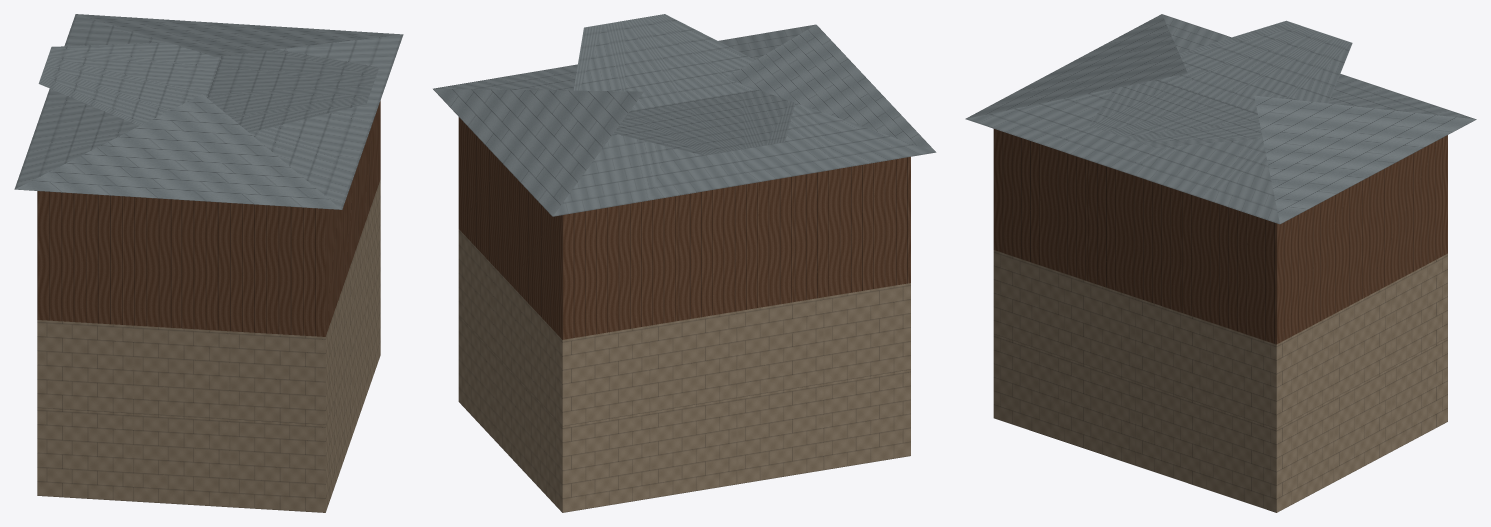
File: bld_c21_29_390.gltf
3 renders of one model, left to right at view 1: azimuth 30°, elevation 25°; view 2: azimuth 150°, elevation 25°; view 3: azimuth 270°, elevation 25°, orthographic. The views are drawn at different scales.
Parts seen in each view (by area): view 1: bld_c21_29_390; view 2: bld_c21_29_390; view 3: bld_c21_29_390.
Part boxes in pixels (x1=…): bld_c21_29_390: x1=14, y1=14, x2=403, y2=512; bld_c21_29_390: x1=433, y1=14, x2=936, y2=512; bld_c21_29_390: x1=965, y1=14, x2=1476, y2=512.
Bounding box in the file's own units: 12.94 × 9.6 × 13.3.
Materials: 3 (3 with a texture image).
